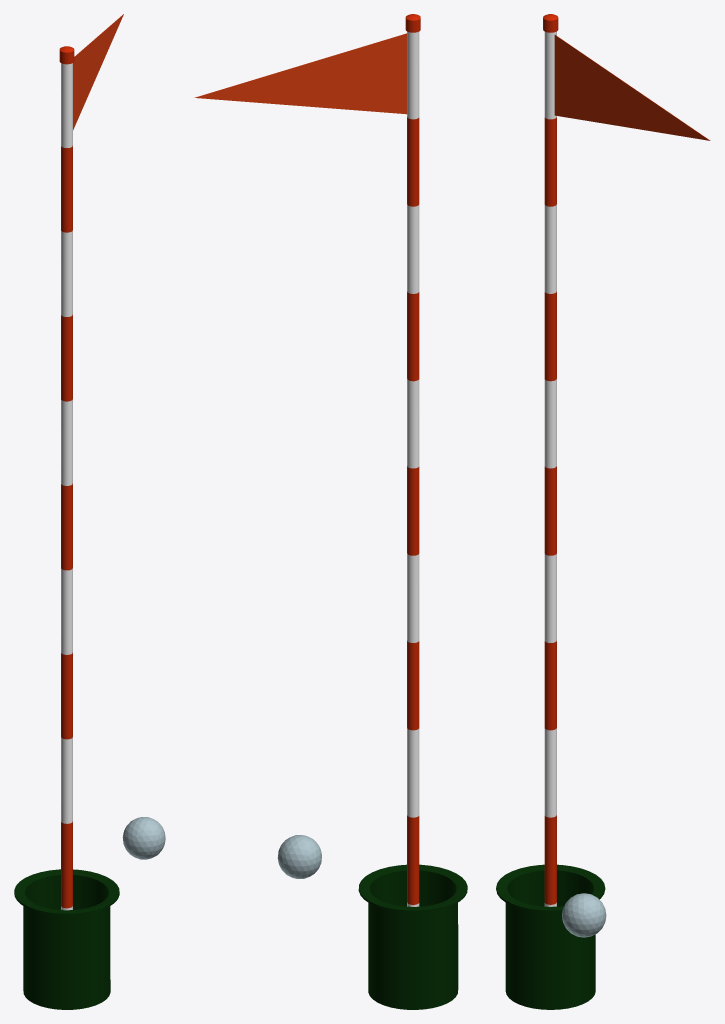
File: MainMenuScreen.glb
3 renders of one model, left to right at view 1: azimuth 30°, elevation 25°; view 2: azimuth 150°, elevation 25°; view 3: azimuth 270°, elevation 25°, orthographic. The views are drawn at different scales.
Parts seen in each view (by area): view 1: Hole, Pole, Flag, Ball; view 2: Hole, Pole, Flag, Ball; view 3: Pole, Hole, Flag, Ball.
Boxes of the visible parts, x1,y1,x2,y2 form: Hole: (14,869,119,1009); Pole: (59,46,74,910); Flag: (73,14,123,130); Ball: (122,817,165,859); Hole: (358,864,467,1009); Pole: (405,14,420,906); Flag: (194,33,407,114); Ball: (277,835,321,878); Pole: (543,14,558,906); Hole: (496,864,605,1009); Flag: (554,35,710,140); Ball: (562,893,606,937).
Size of what is drawn, in the model's own units: 4.82 by 24.13 by 4.81.
